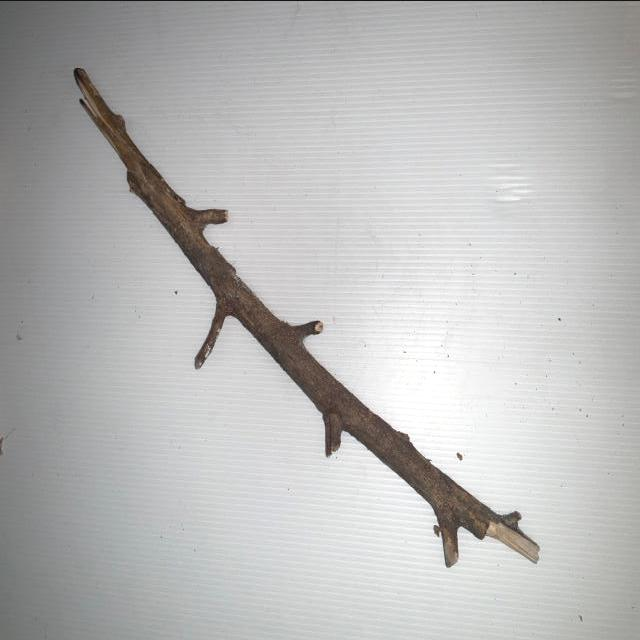Sharps: (71, 65, 540, 567)
